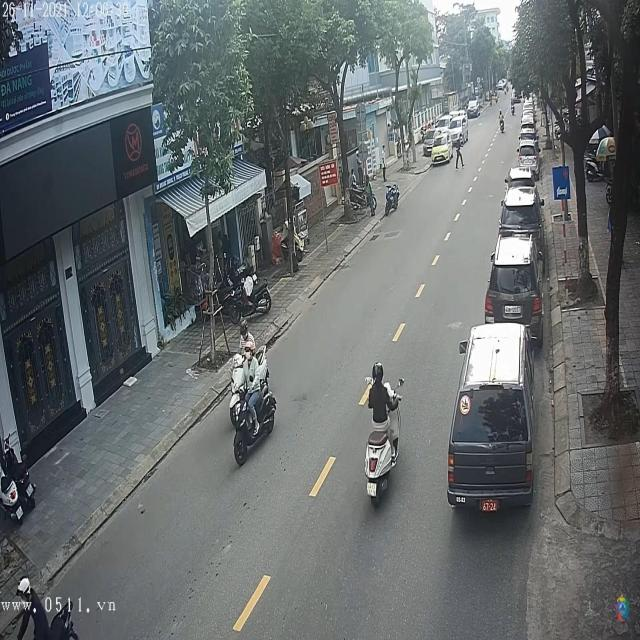car: (447, 326, 532, 511), (486, 234, 542, 332), (500, 187, 544, 236), (517, 130, 537, 150), (468, 98, 482, 118)
motorcycle: (228, 373, 278, 469), (362, 398, 403, 512)
